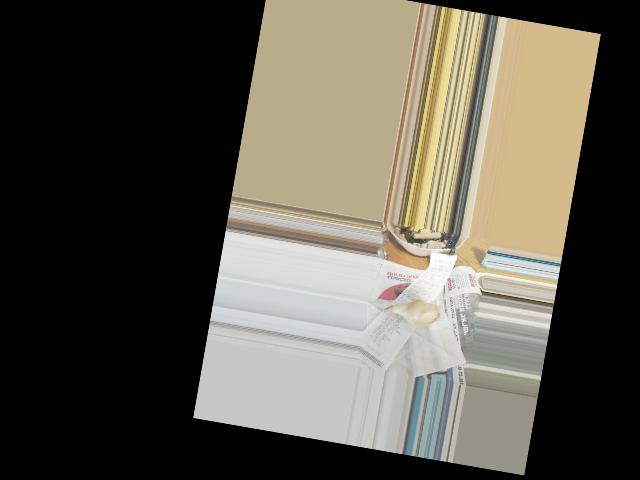onion: (395, 298, 440, 327)
